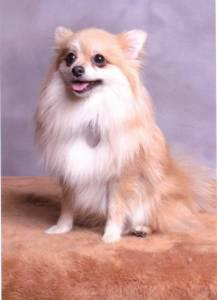dog: (52, 25, 146, 97)
